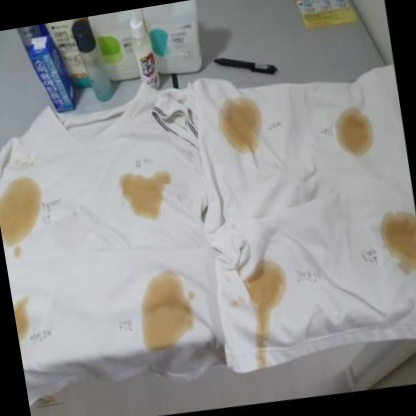coffee: (143, 279, 188, 344), (216, 96, 267, 152), (0, 183, 41, 240), (249, 266, 284, 309), (338, 110, 372, 153), (387, 214, 416, 264), (126, 174, 162, 214), (14, 302, 30, 335)
